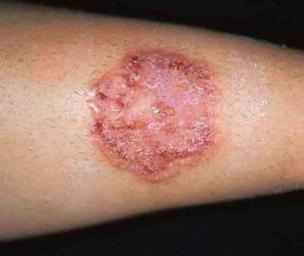Ringworm: (85, 40, 231, 188)
